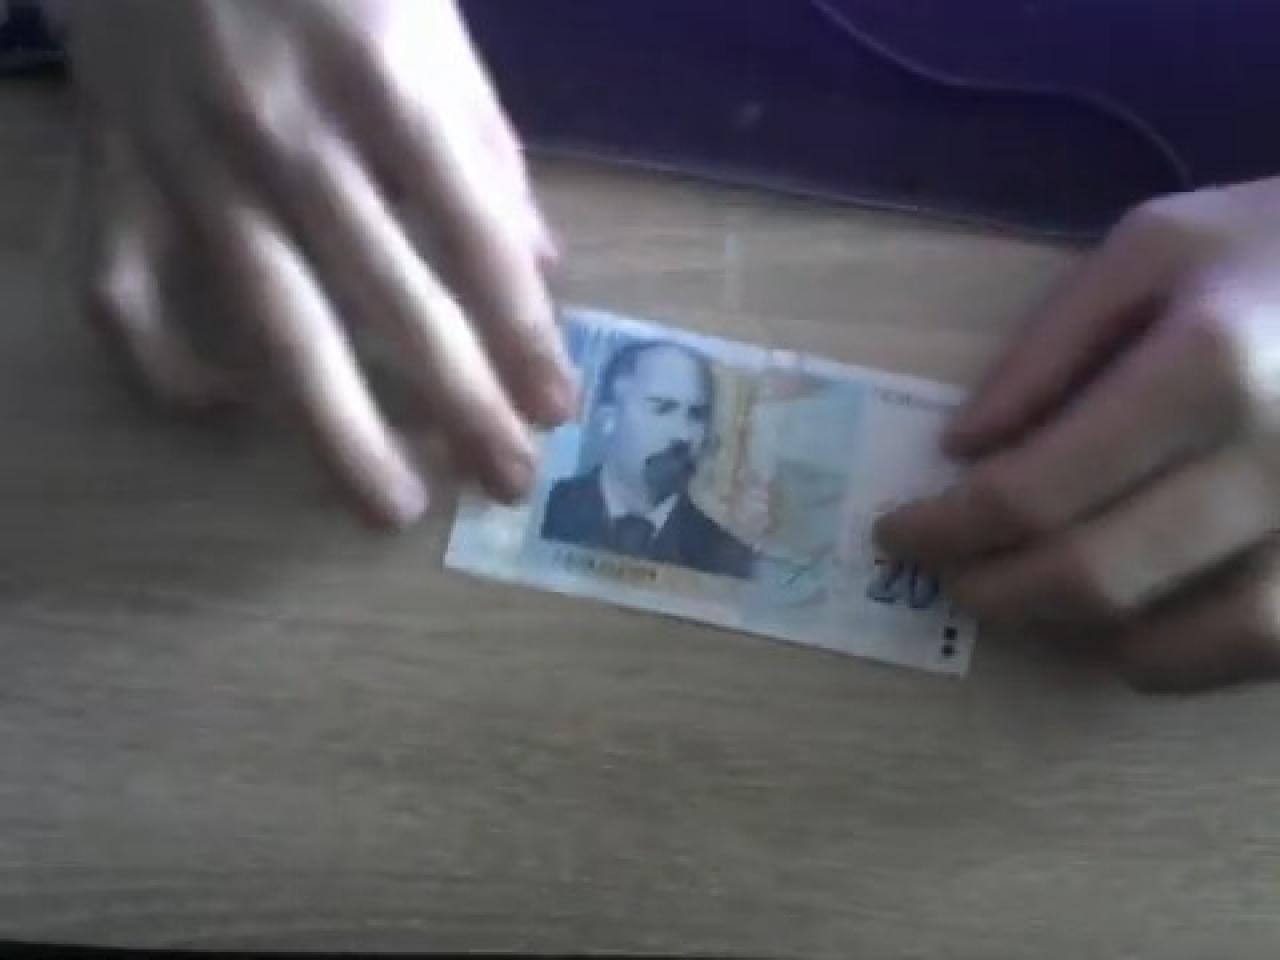20leva: (536, 334, 765, 582)
